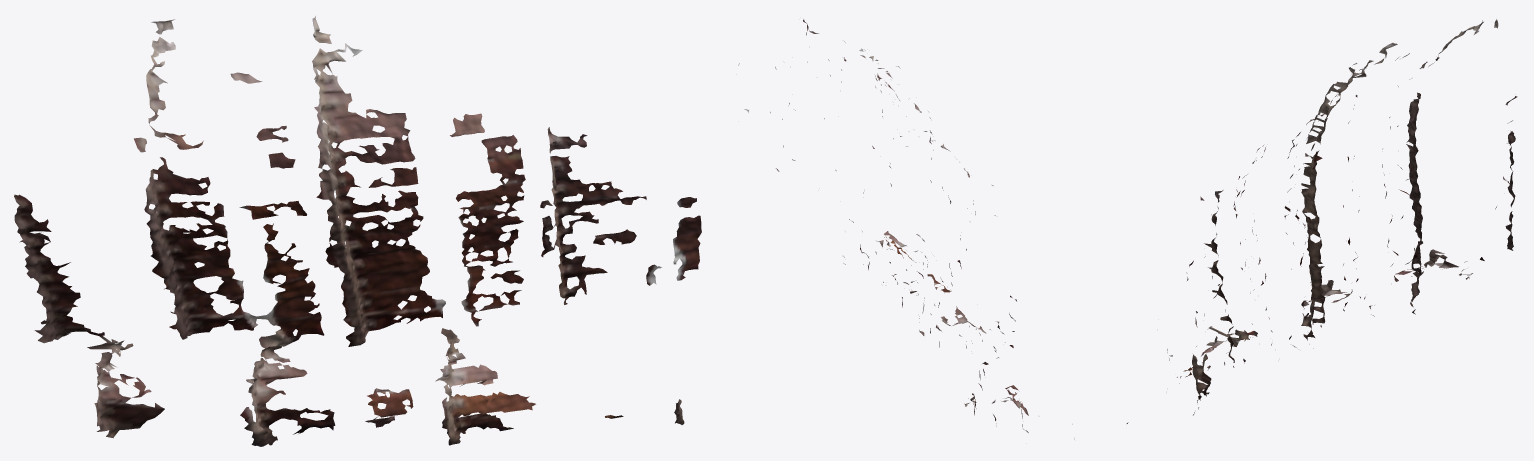
The model's file is fern_surface.glb.
3 renders of one model, left to right at view 1: azimuth 30°, elevation 25°; view 2: azimuth 150°, elevation 25°; view 3: azimuth 270°, elevation 25°, orthographic. The views are drawn at different scales.
Parts seen in each view (by area): view 1: best_view_patch.ply; view 2: best_view_patch.ply; view 3: best_view_patch.ply.
Part boxes in pixels (left/top/right/bottom): best_view_patch.ply: left=14, top=16, right=701, bottom=446; best_view_patch.ply: left=738, top=19, right=1028, bottom=432; best_view_patch.ply: left=1072, top=19, right=1517, bottom=439.
Bounding box in the file's own units: 4.95 × 3.64 × 4.13.
